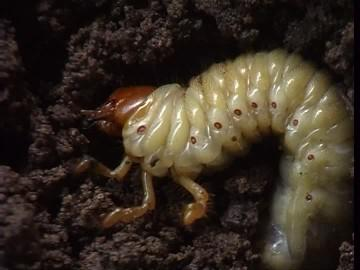grub: (81, 47, 360, 270)
